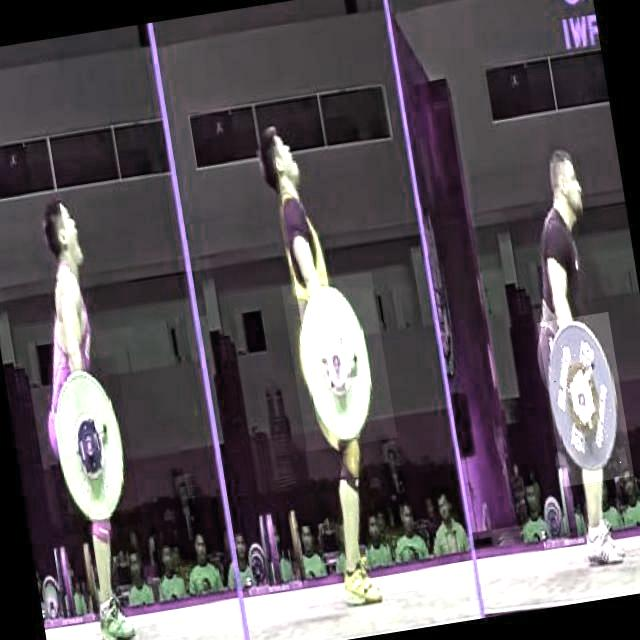barbell: (282, 272, 397, 452), (37, 357, 143, 537), (537, 312, 635, 487)
